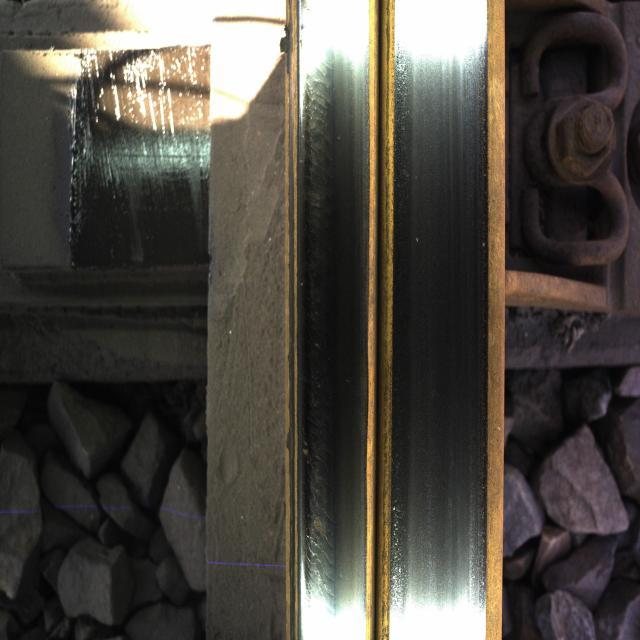normal: (392, 36, 482, 585), (303, 26, 355, 605)
